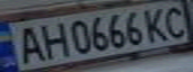0: (66, 16, 93, 55)
6: (121, 8, 148, 46), (87, 14, 112, 52), (106, 10, 130, 49)
A: (6, 24, 48, 64)
C: (160, 2, 193, 39)
H: (33, 20, 69, 60)
K: (139, 4, 175, 43)
